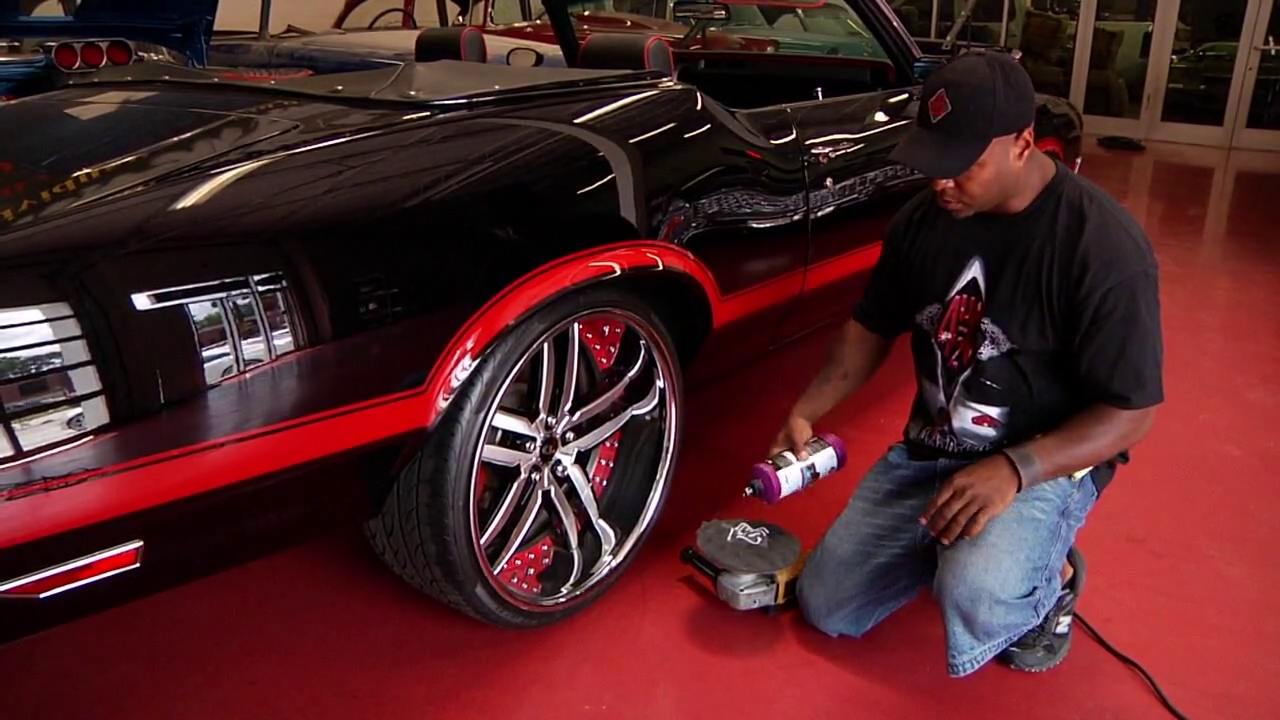person: (766, 51, 1165, 672)
